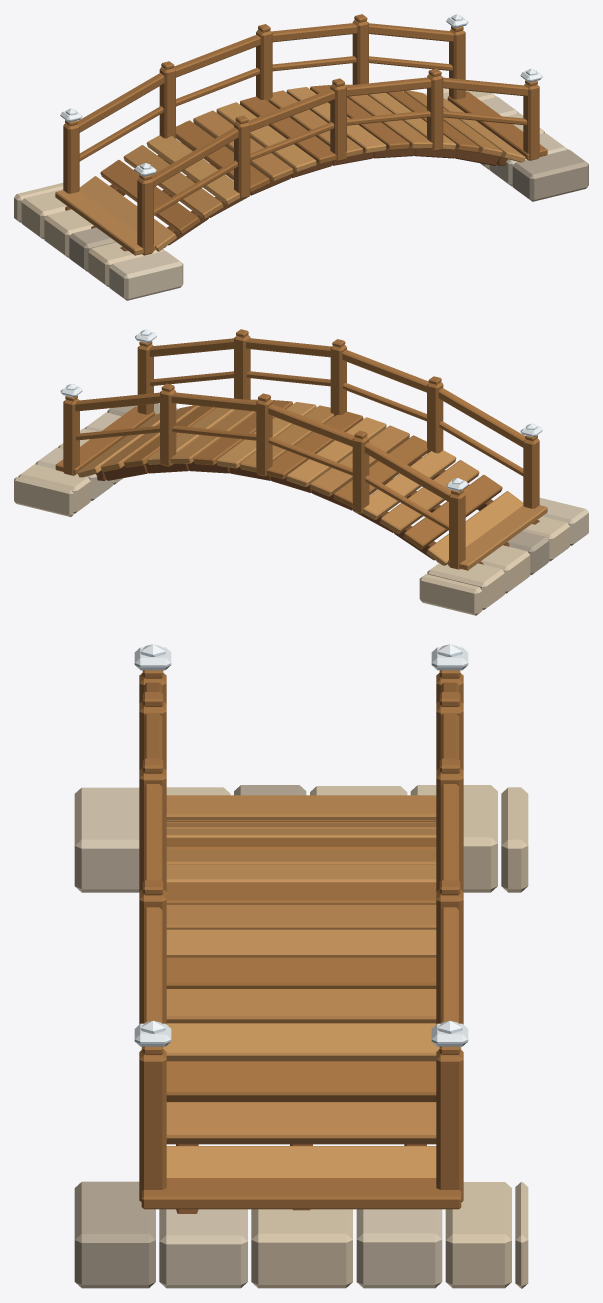
The model's file is footbridge.glb.
3 renders of one model, top to bottom at view 1: azimuth 30°, elevation 25°; view 2: azimuth 150°, elevation 25°; view 3: azimuth 270°, elevation 25°, orthographic. The views are drawn at different scales.
Parts seen in each view (by area): view 1: footbridge; view 2: footbridge; view 3: footbridge.
Boxes of the visible parts, left/top/right/bottom form: footbridge: left=14, top=14, right=588, bottom=300; footbridge: left=14, top=329, right=588, bottom=615; footbridge: left=74, top=644, right=528, bottom=1288.
Size of the model in its own units: 4.7 by 1.46 by 1.99.
